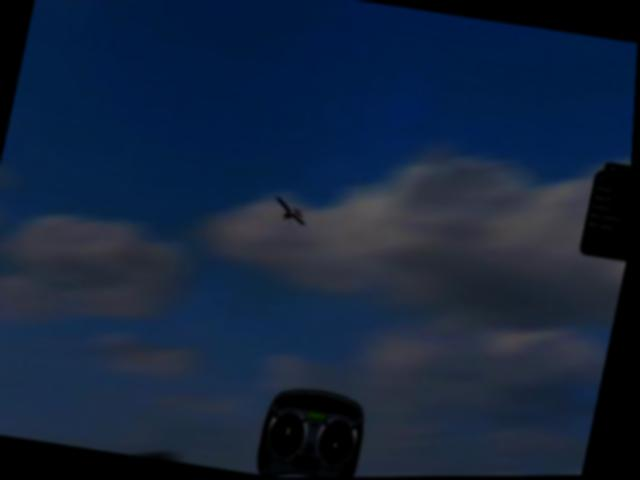uav: (272, 194, 315, 228)
